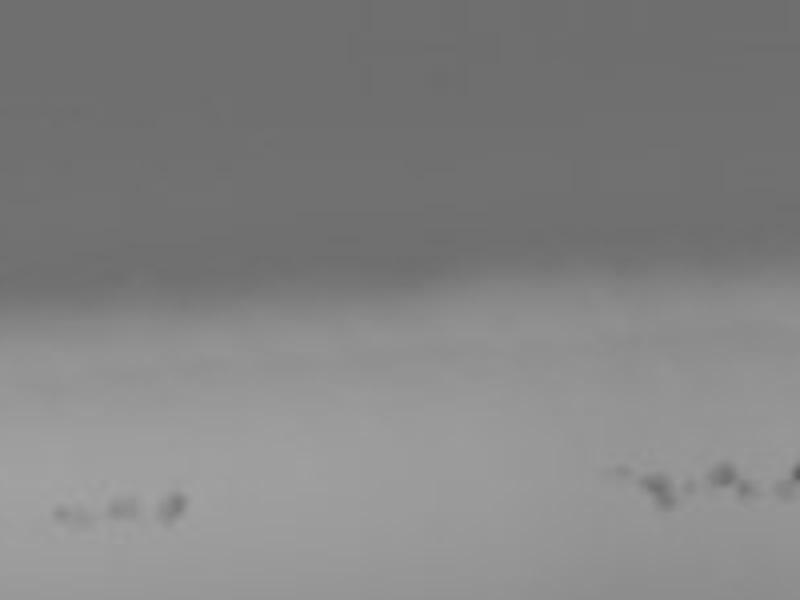defect: (640, 473, 685, 514), (53, 504, 92, 536), (158, 496, 192, 528), (705, 459, 740, 489), (101, 494, 141, 519), (735, 480, 763, 506), (770, 476, 795, 505), (607, 460, 633, 480), (682, 474, 696, 496), (789, 460, 800, 482)
